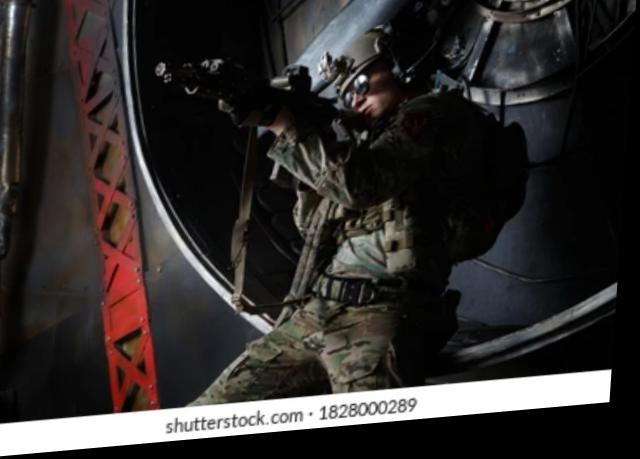other: (210, 25, 464, 403)
